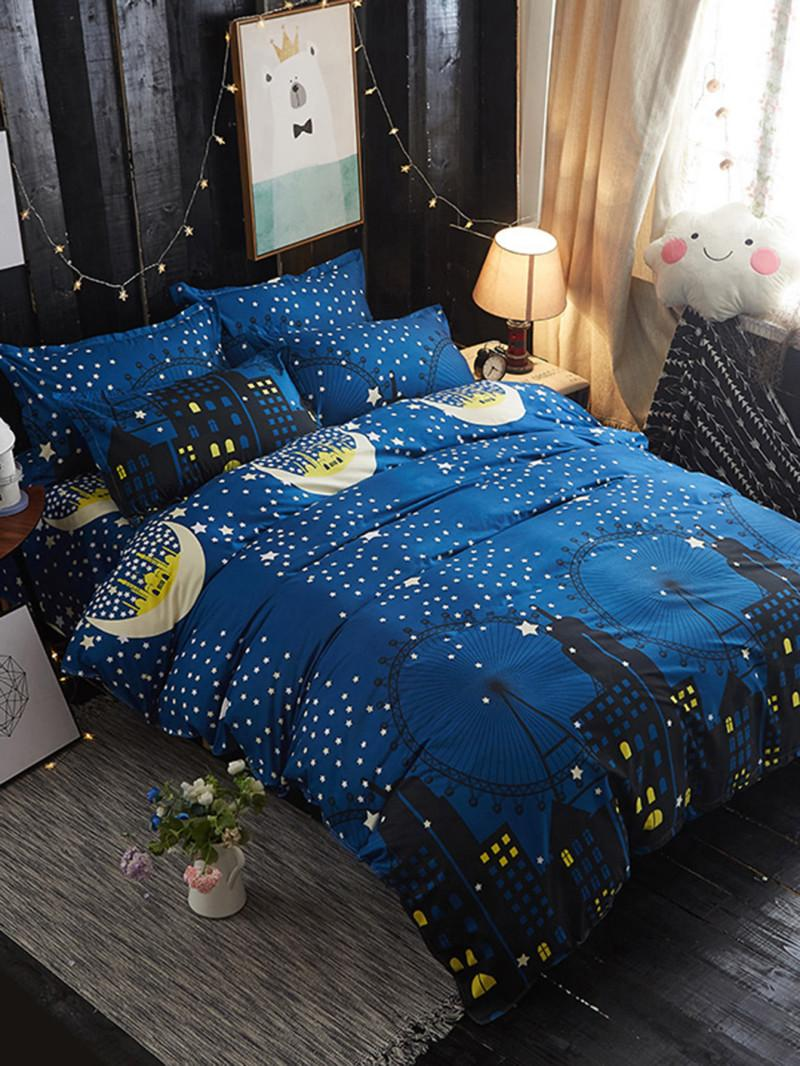bed: (45, 235, 800, 948)
